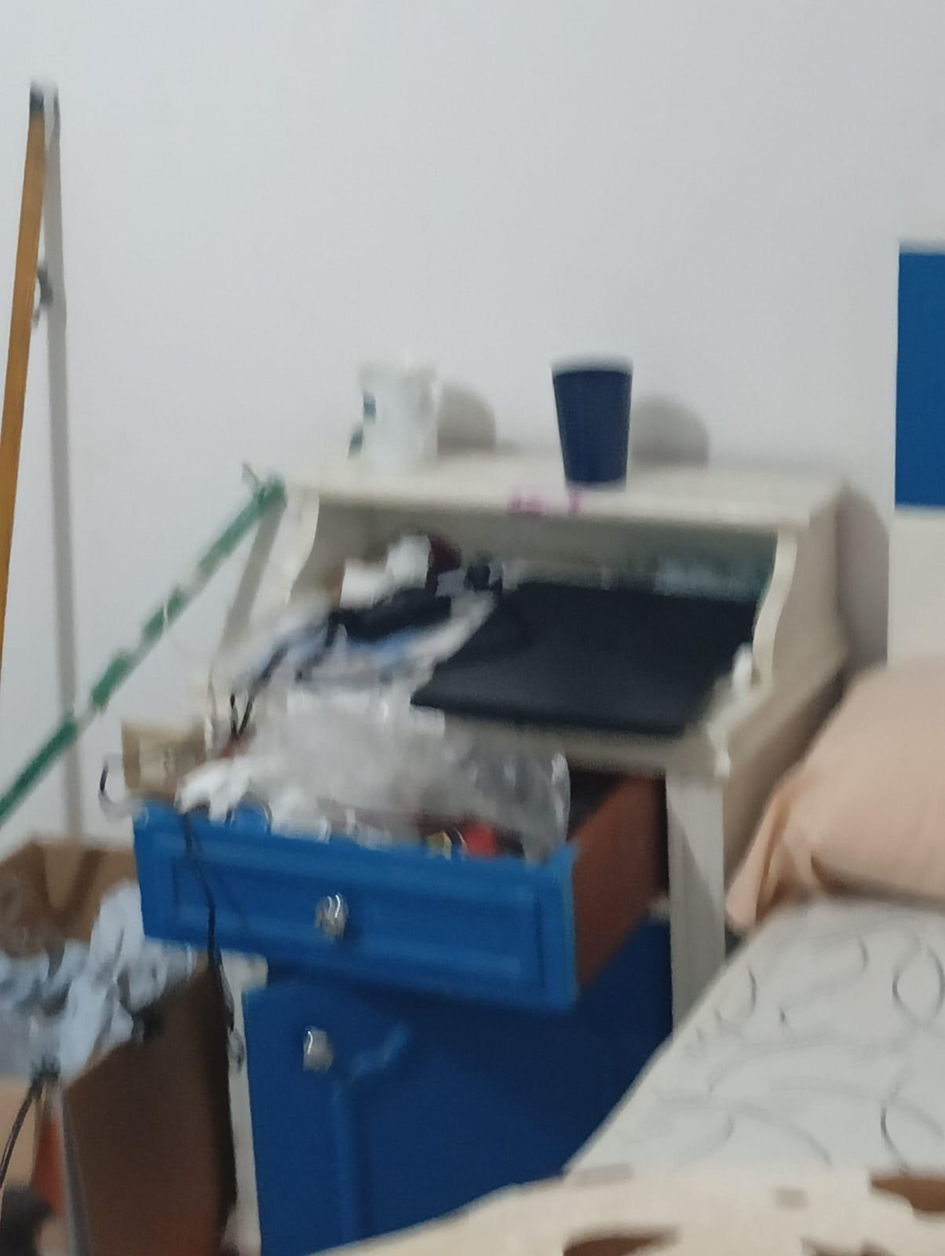cup: (553, 360, 631, 484), (359, 363, 440, 469)
